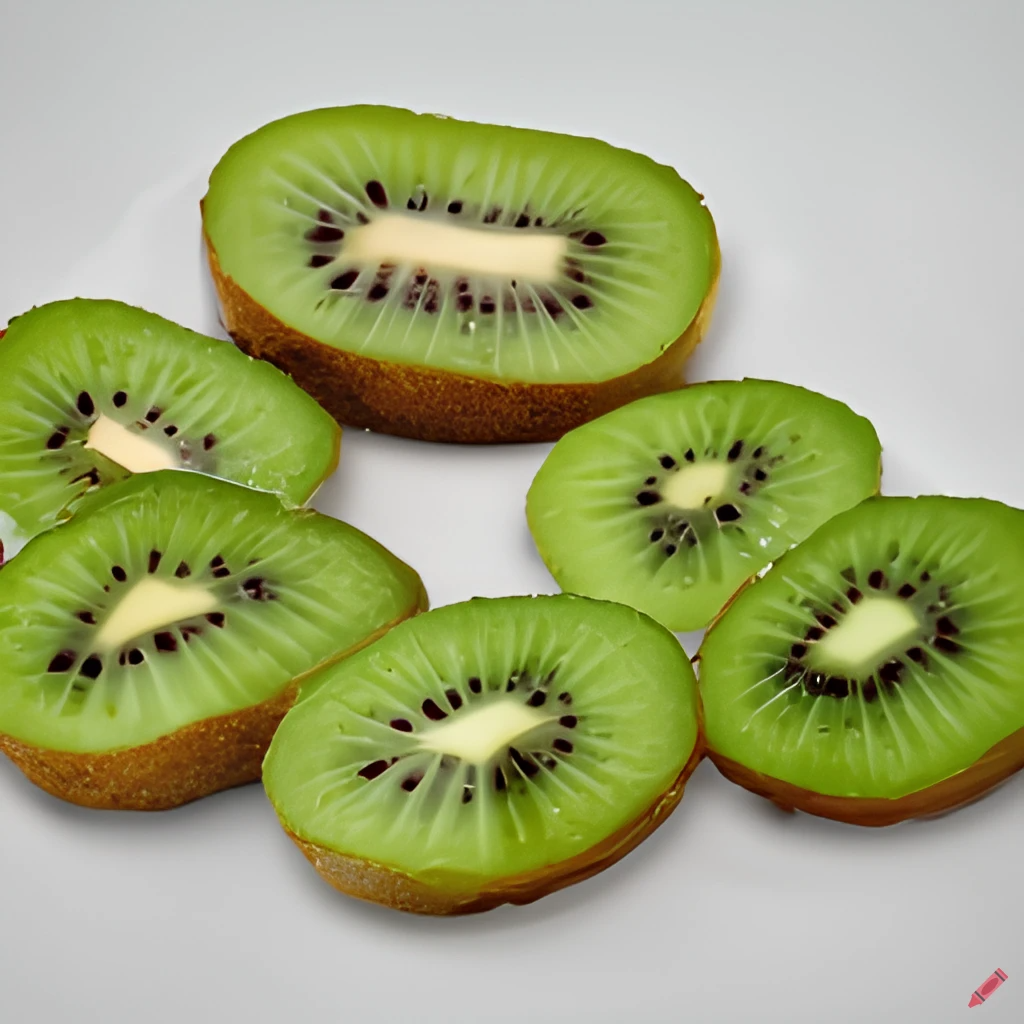Kiwi: (700, 456, 1024, 802)
